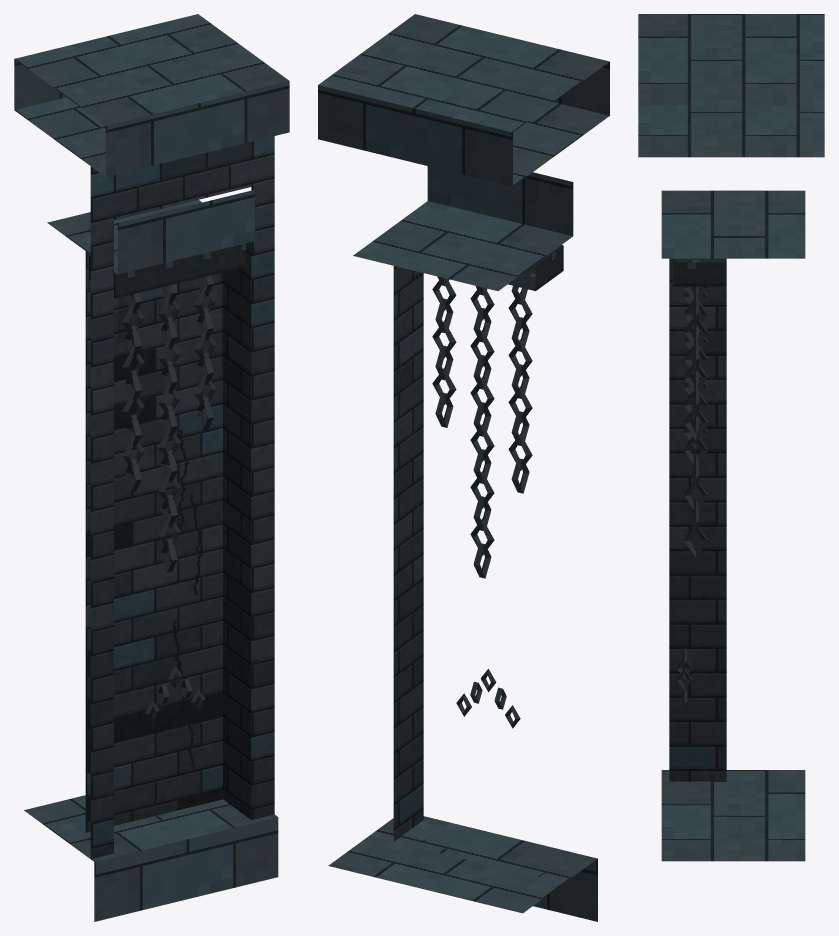
The model's file is T1_Wall_Chain.fbx.
3 renders of one model, left to right at view 1: azimuth 30°, elevation 25°; view 2: azimuth 150°, elevation 25°; view 3: azimuth 270°, elevation 25°, orthographic. The views are drawn at different scales.
Visible parts, largest first — view 1: T1_Wall_Chain; view 2: T1_Wall_Chain; view 3: T1_Wall_Chain.
Boxes of the visible parts, box(x1,y1,x2,y2) form: T1_Wall_Chain: box(14, 14, 289, 921); T1_Wall_Chain: box(318, 14, 609, 921); T1_Wall_Chain: box(638, 14, 824, 861).
Bounding box in the file's own units: 1.12 × 4.7 × 0.97.
